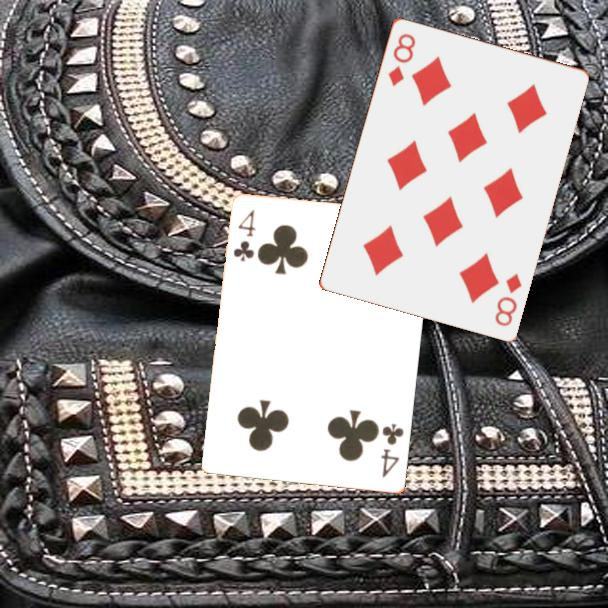c04: (378, 420, 407, 481), (230, 206, 259, 265)
d08: (384, 29, 418, 89), (491, 269, 524, 329)
